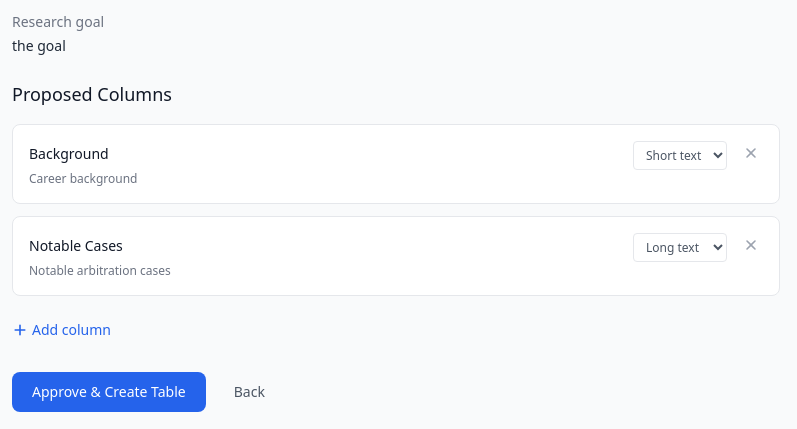
it: ColumnEditor › can delete a column
Click the 1st button titled "delete column".
click(751, 153)  # box [739,141,763,165]
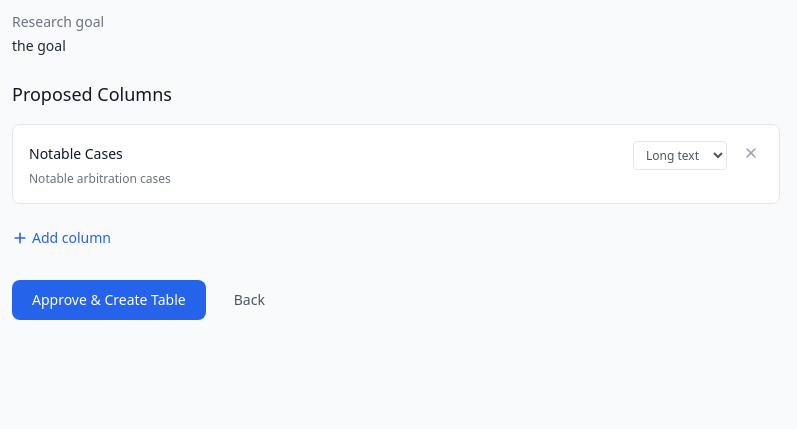
Expected: the field showing "Notable Cases" is shown, [29,144,621,167]
Expected: the text showing "Background" is gone
